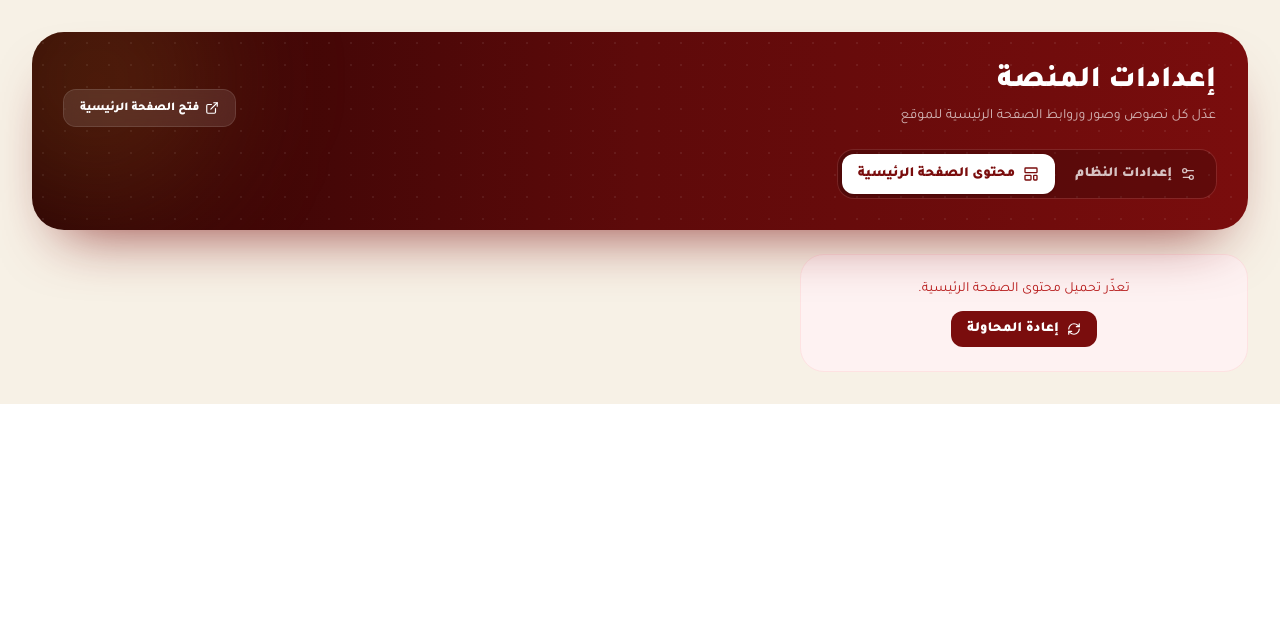
Test: Settings → home page content editor › a failed load offers a retry
The width and height of the screenshot is (1280, 643).
Click the button "إعادة المحاولة": (1024, 329) [951, 311, 1097, 347]
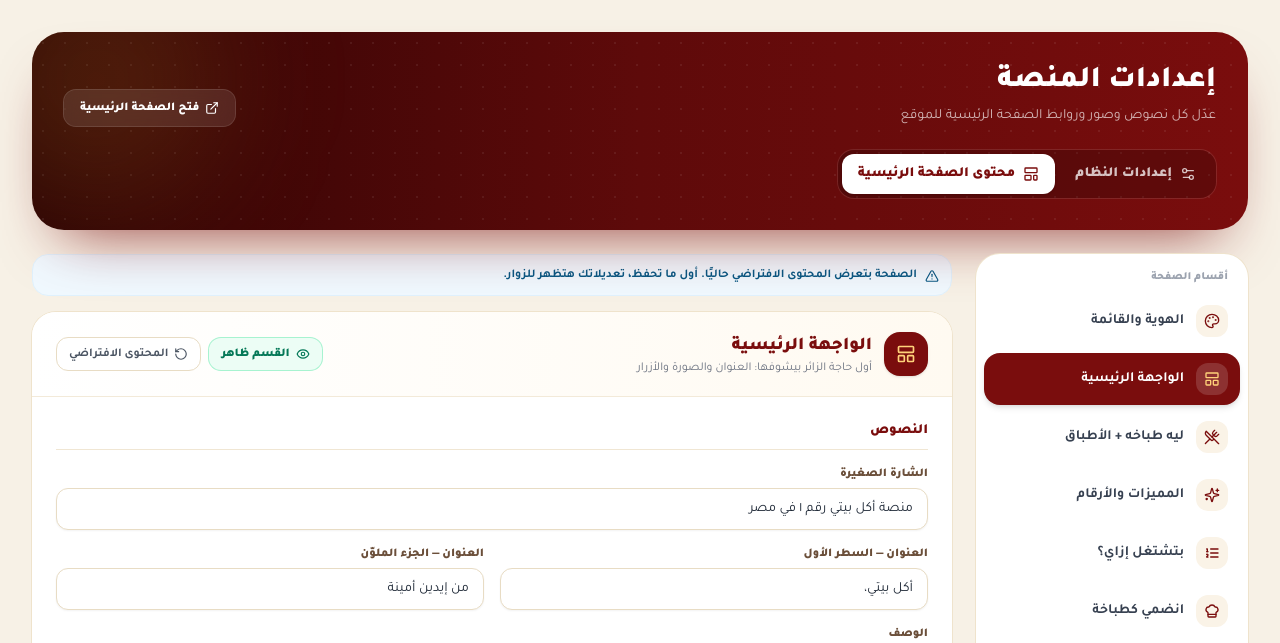
Check: the field labelled "العنوان — السطر الأول" is shown, box [500, 568, 928, 610]
